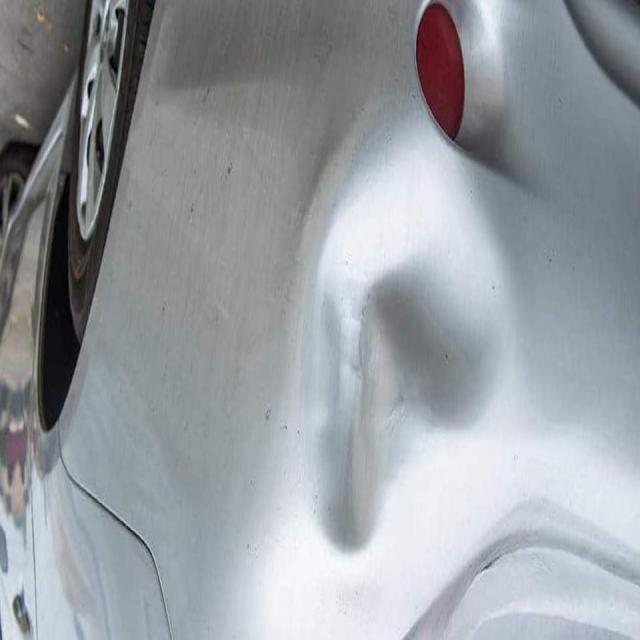dent: (271, 106, 523, 561)
